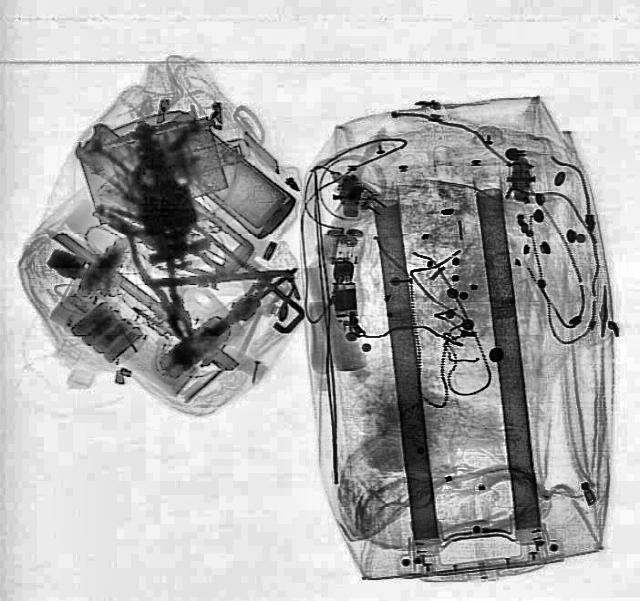Pliers: (119, 221, 201, 345)
